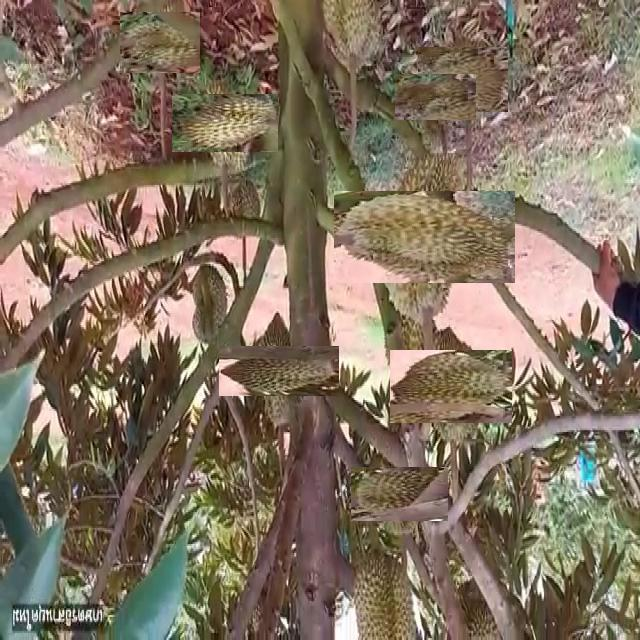durian: (357, 169, 493, 305), (402, 338, 500, 436), (236, 328, 321, 414), (183, 82, 266, 164), (351, 546, 421, 640), (425, 41, 502, 118), (362, 456, 438, 532), (316, 2, 387, 77), (125, 7, 196, 78), (447, 575, 518, 640), (404, 65, 468, 129), (187, 258, 230, 346)
